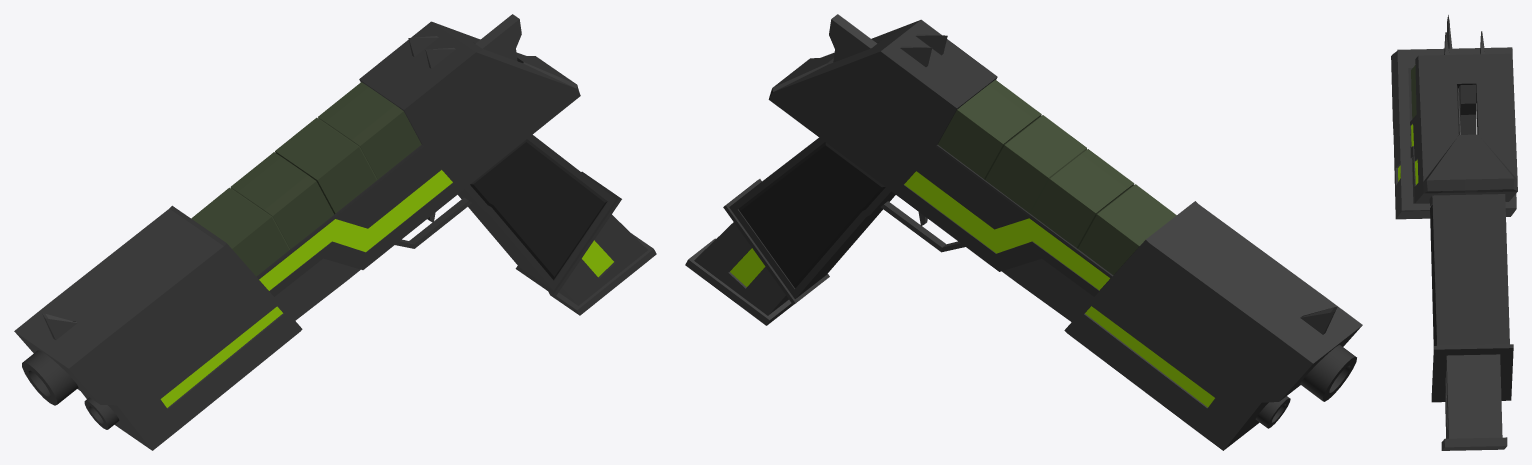
The model's file is future gun.fbx.
The picture shows the model from 3 angles, left to right: view 1: azimuth 30°, elevation 25°; view 2: azimuth 150°, elevation 25°; view 3: azimuth 270°, elevation 25°; orthographic projection. The views are drawn at different scales.
Parts seen in each view (by area): view 1: polySurface9; view 2: polySurface9; view 3: polySurface9.
Part boxes in pixels (box(x1,y1,x2,y2)): polySurface9: box(14, 14, 656, 450); polySurface9: box(685, 14, 1362, 450); polySurface9: box(1391, 15, 1517, 450).
Bounding box in the file's own units: 30.83 × 14.77 × 4.86.
